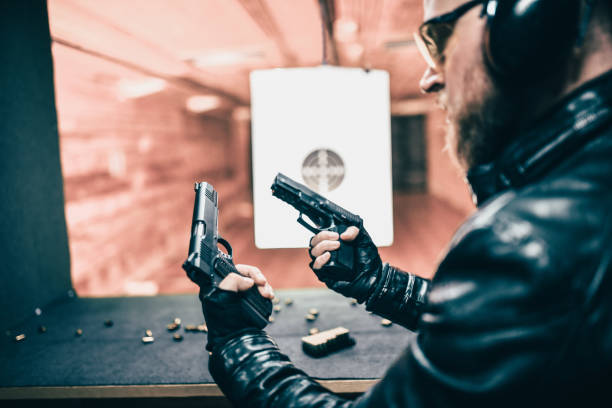gun: (180, 178, 275, 328), (267, 171, 365, 293)
